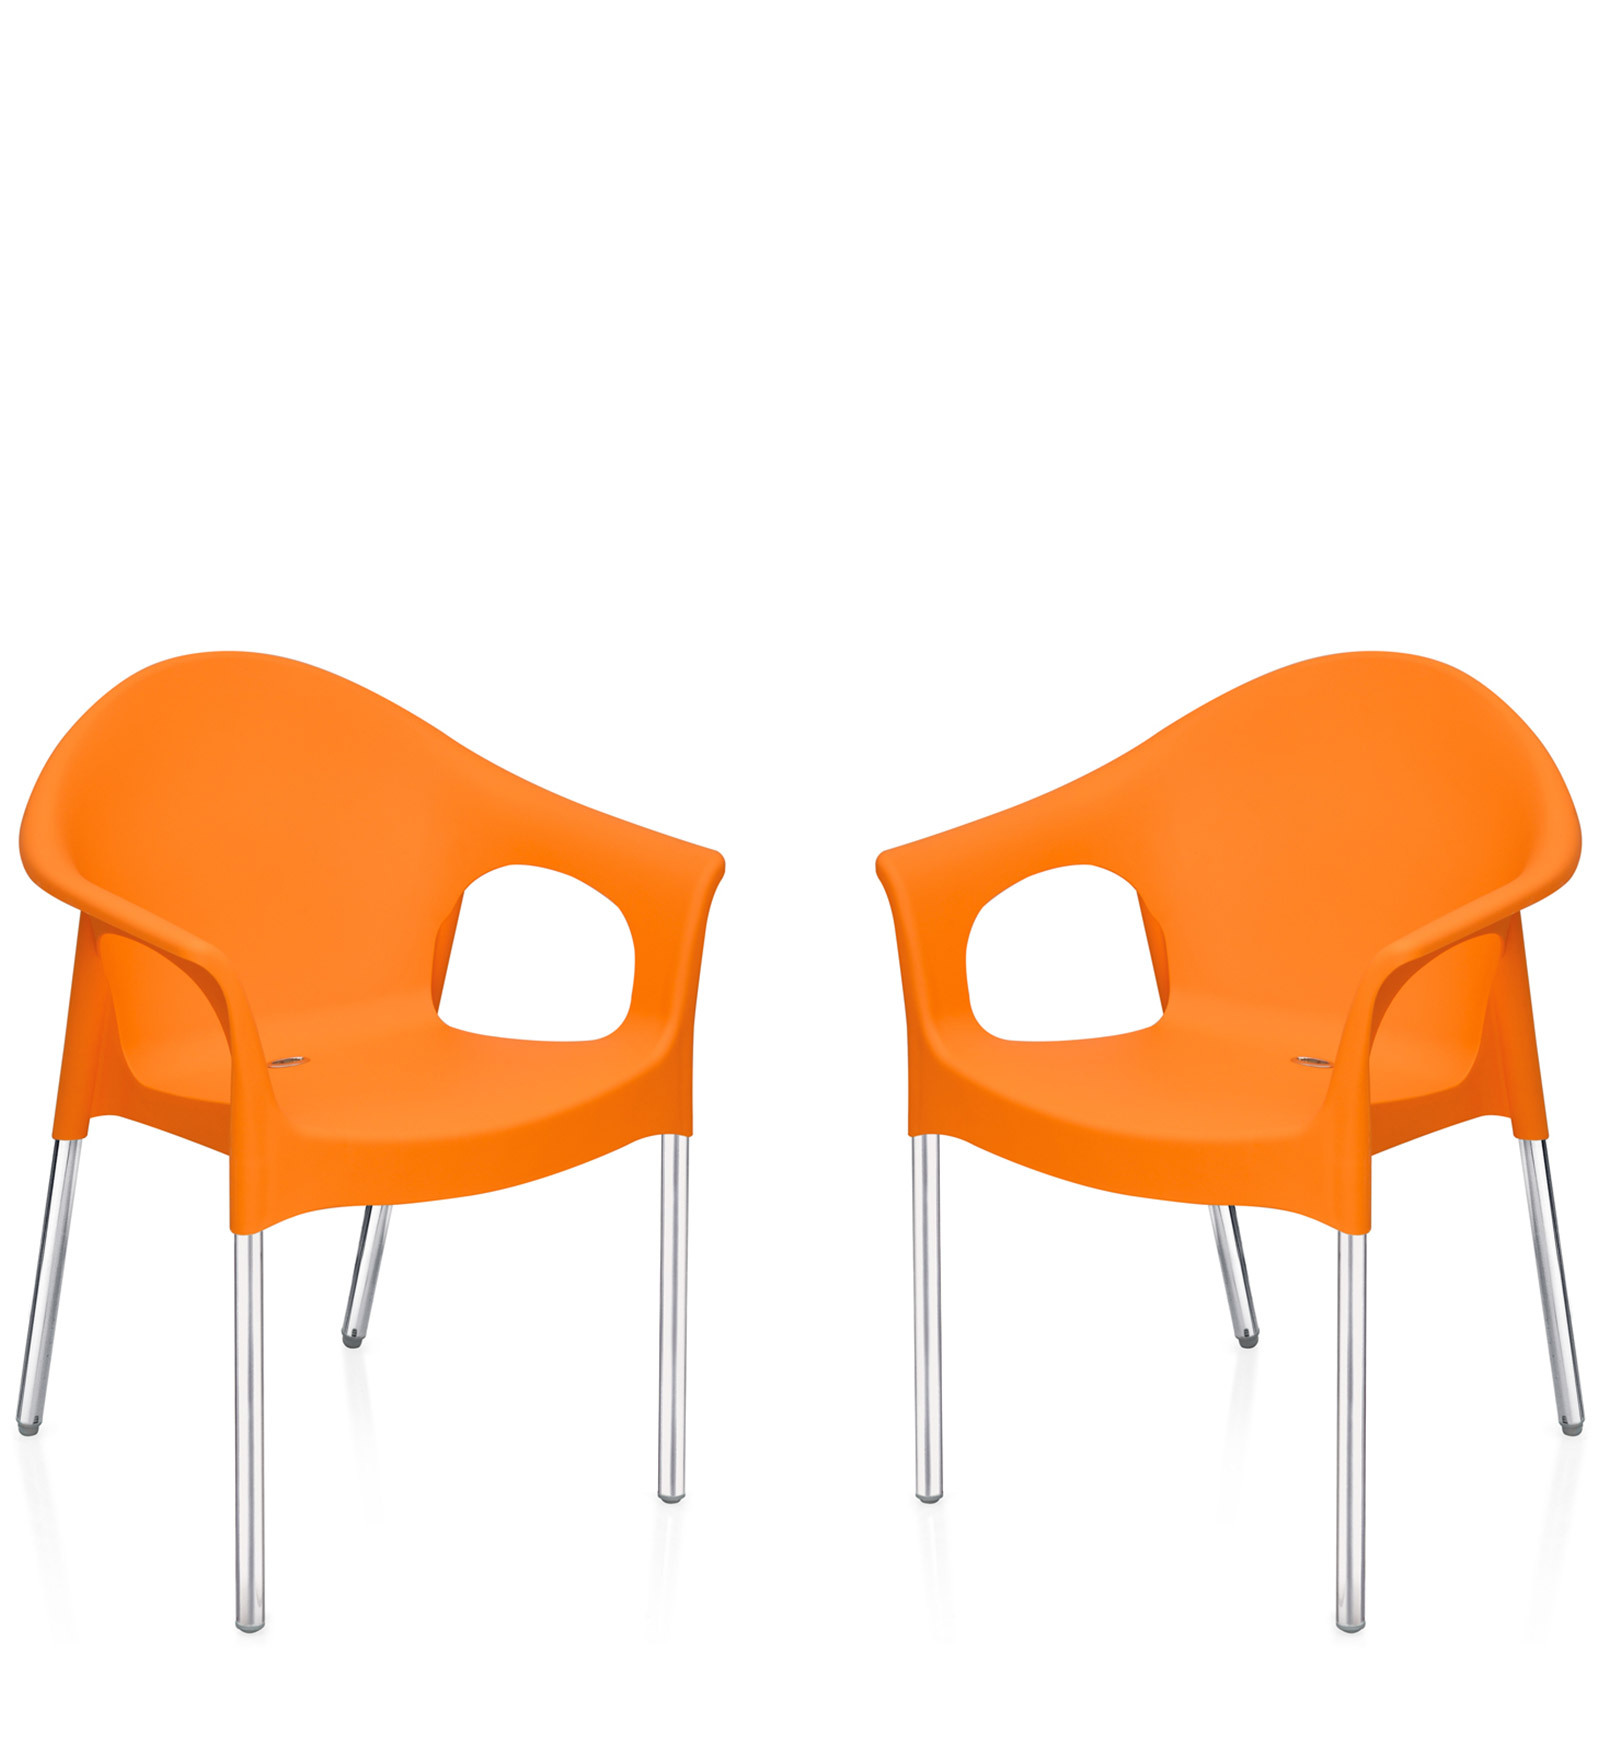Novella Series - 9 (Set of 2) Chairs in Orange Colour by Nilkamal: (860, 627, 1589, 1633), (11, 645, 723, 1633)
